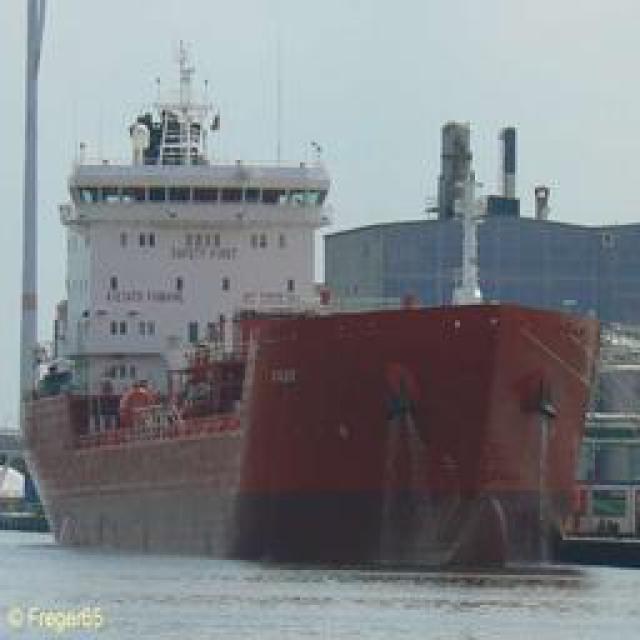Ship: (16, 36, 628, 586)
